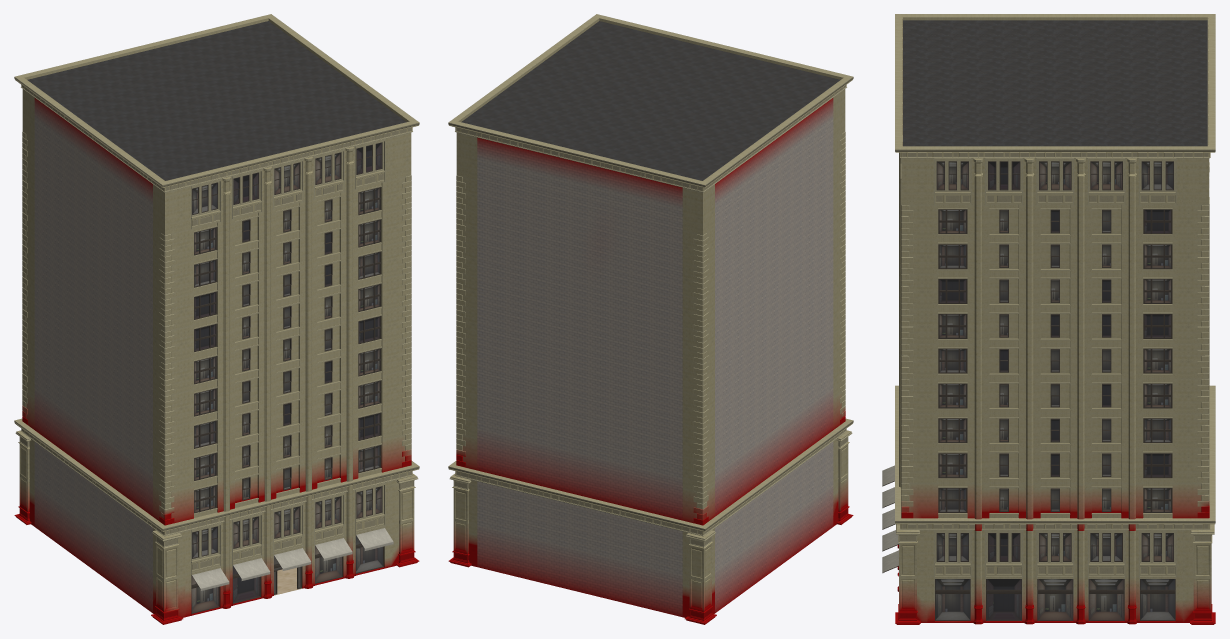
The model's file is Building_Large_1.gltf.
The picture shows the model from 3 angles, left to right: view 1: azimuth 30°, elevation 25°; view 2: azimuth 150°, elevation 25°; view 3: azimuth 270°, elevation 25°; orthographic projection. The views are drawn at different scales.
Visible parts, largest first — view 1: Building_Large_1; view 2: Building_Large_1; view 3: Building_Large_1.
Part boxes in pixels (x1,y1,x2,y2): Building_Large_1: (14,14,419,624); Building_Large_1: (448,14,853,624); Building_Large_1: (882,14,1215,624).
Size of the model in its own units: 25.04 by 41 by 26.03.
13 materials, 12 textured.
